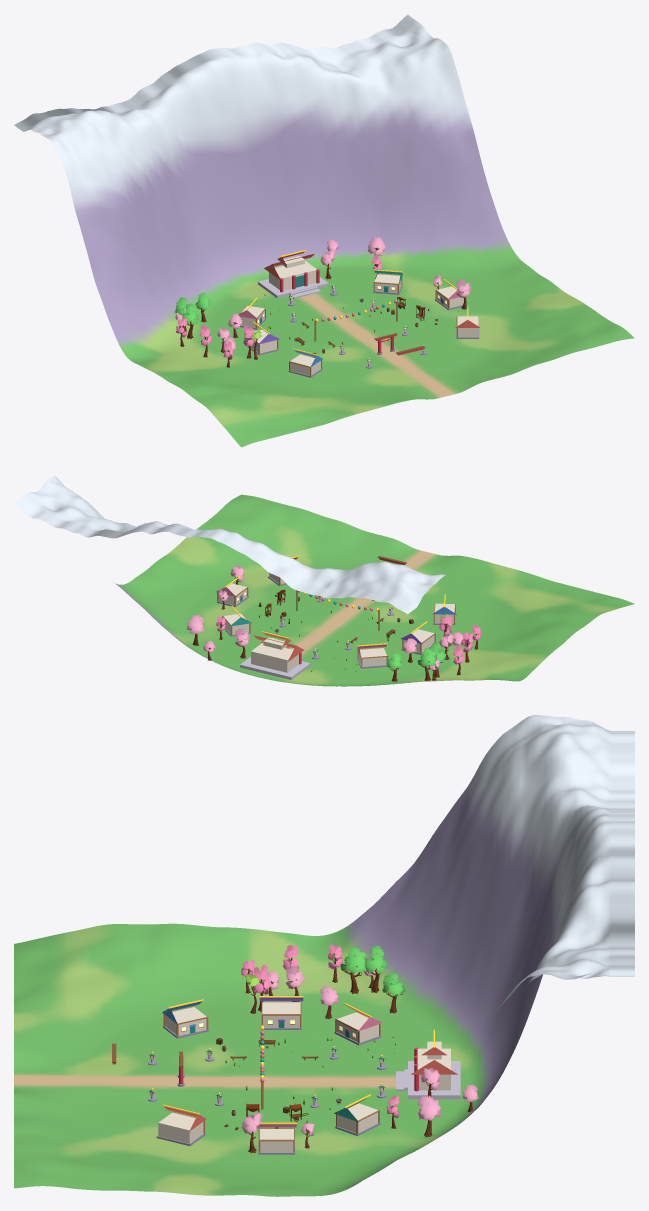
Rendered from home.glb.
3 renders of one model, top to bottom at view 1: azimuth 30°, elevation 25°; view 2: azimuth 150°, elevation 25°; view 3: azimuth 270°, elevation 25°, orthographic. The views are drawn at different scales.
Visible parts, largest first — view 1: Ground, Shrine Hall; view 2: Ground, Walls (×4), Shrine Hall, Shrine Dais, Tree_Green1, Tree_Sakura1; view 3: Ground, Walls (×6), Shrine Dais, Shrine Hall.
Part boxes in pixels (box(x1,y1,x2,y2)): Ground: box(14, 14, 634, 447); Shrine Hall: box(269, 261, 316, 290); Ground: box(14, 476, 634, 686); Walls (×4): box(218, 583, 434, 666); Shrine Hall: box(251, 643, 298, 672); Shrine Dais: box(240, 657, 310, 679); Tree_Green1: box(417, 648, 435, 681); Tree_Sakura1: box(187, 614, 204, 645); Ground: box(14, 715, 634, 1196); Walls (×6): box(158, 1002, 378, 1152); Shrine Dais: box(408, 1061, 460, 1099); Shrine Hall: box(417, 1048, 450, 1090).
Size of the model in its own units: 130 by 58.32 by 130.
29 materials, 12 textured.
